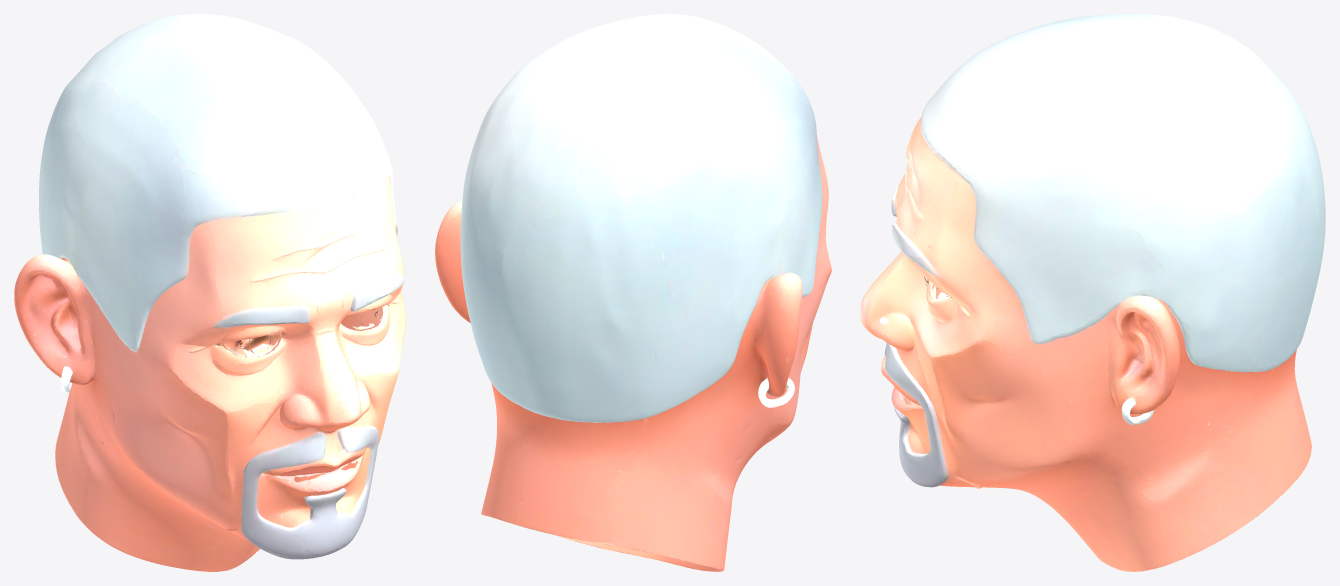
The model's file is sample_00041.glb.
3 views of the same model, side by side, from view 1: azimuth 30°, elevation 25°; view 2: azimuth 150°, elevation 25°; view 3: azimuth 270°, elevation 25° (orthographic).
Visible parts, largest first — view 1: Neutral face; view 2: Neutral face; view 3: Neutral face.
Part boxes in pixels (x1=…): Neutral face: x1=14, y1=14, x2=406, y2=571; Neutral face: x1=435, y1=14, x2=831, y2=571; Neutral face: x1=860, y1=14, x2=1325, y2=571.
Size of the model in its own units: 1.17 by 1.64 by 1.31.
Materials: 1 (1 with a texture image).
